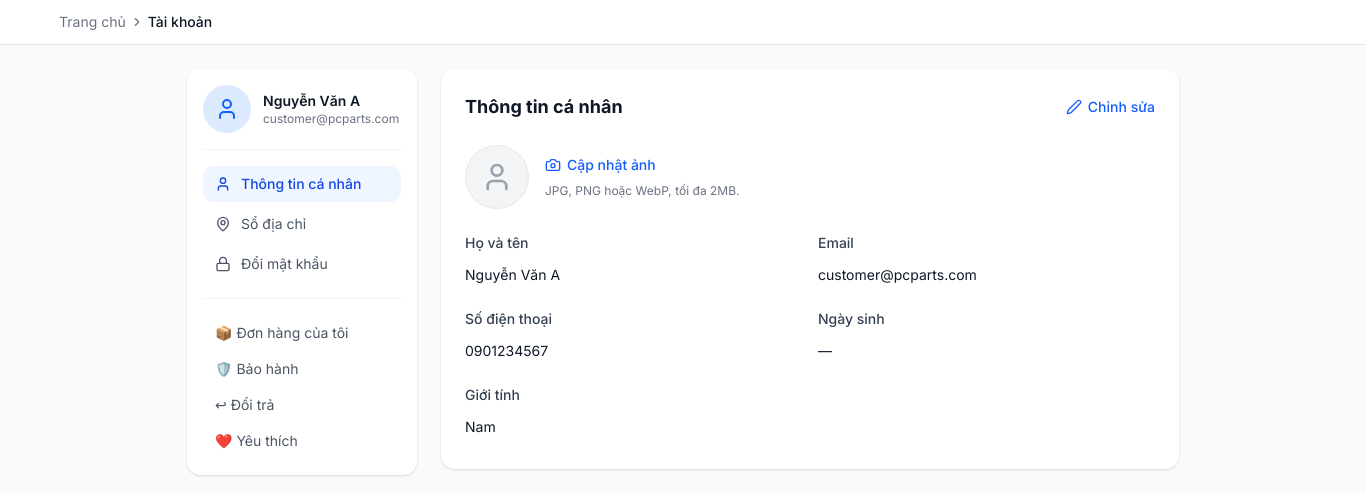
Test: ProfilePage › loads address book only after selecting the address tab
The width and height of the screenshot is (1366, 493).
What coordinates should you click on to do the following:
click the button "Sổ địa chỉ"
I would click on:
 (302, 224)
Its box is [203,206,401,242].
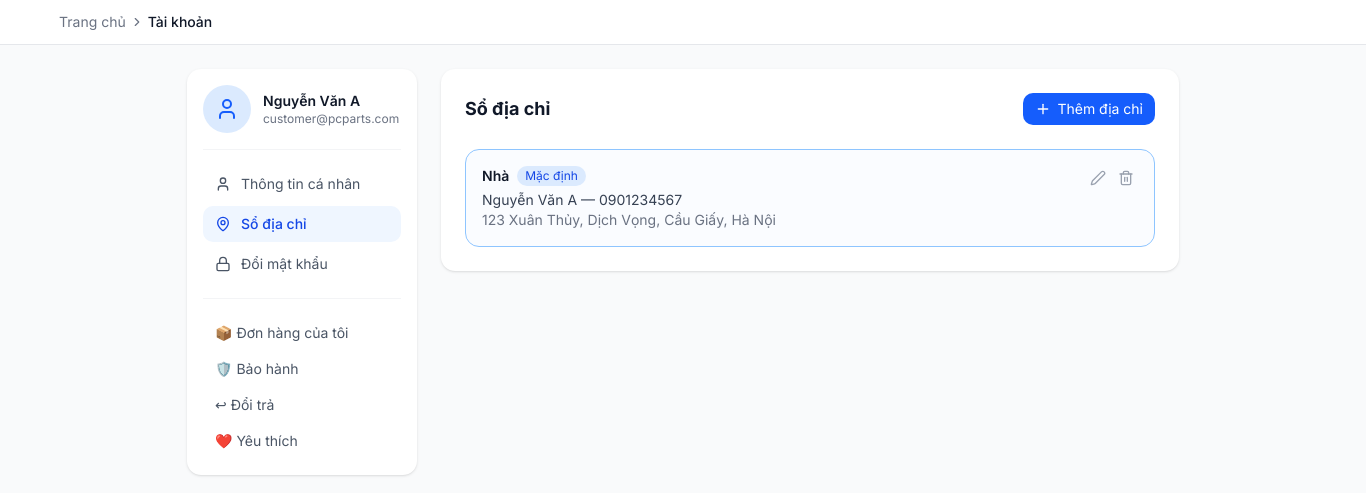
Now the text "123 Xuân Thủy, Dịch Vọng, Cầu Giấy, Hà Nội" is shown, box [482,210,776,230]
